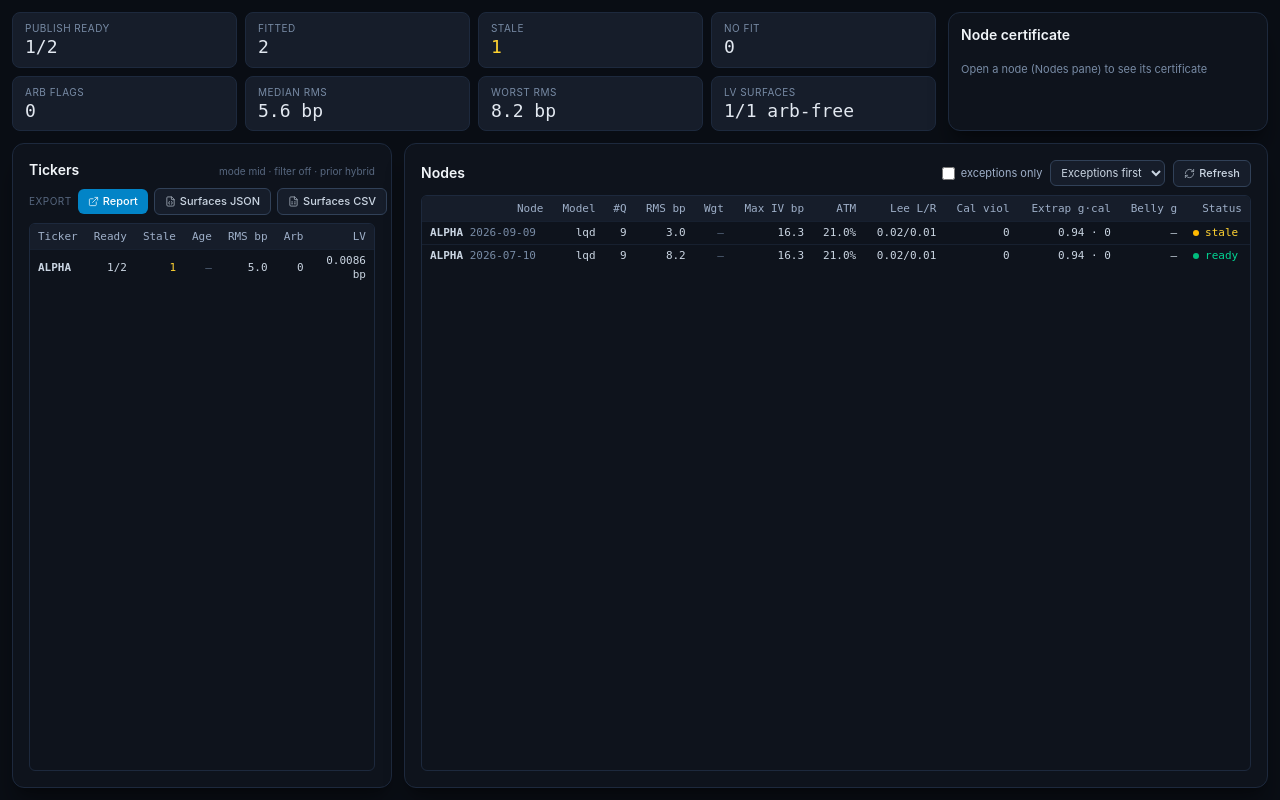
Test: QualityViewer › filters to exceptions only
Click the checkbox labelled "exceptions only" at x=948, y=173, box [942,167,955,180]
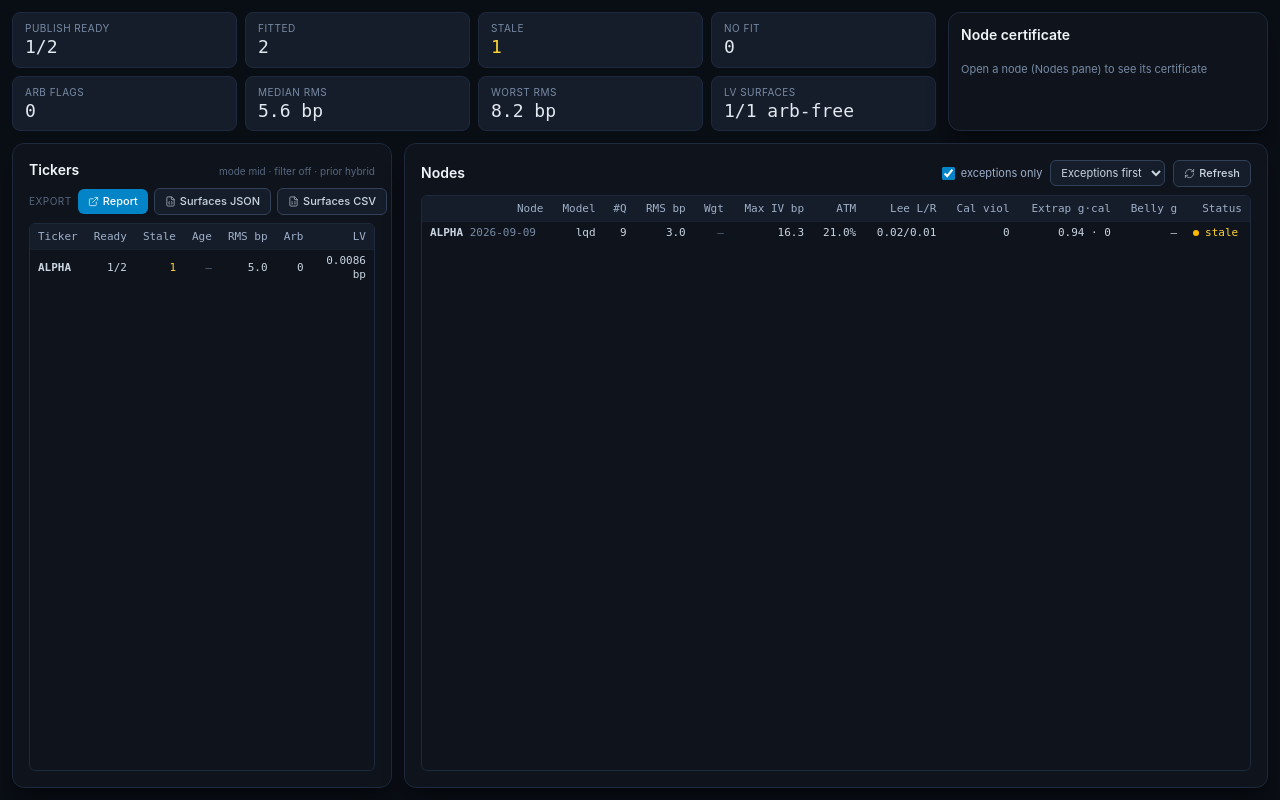
Expected: the text "2026-09-09" is shown, [470,226,536,239]
Expected: the text "2026-07-10" is gone
